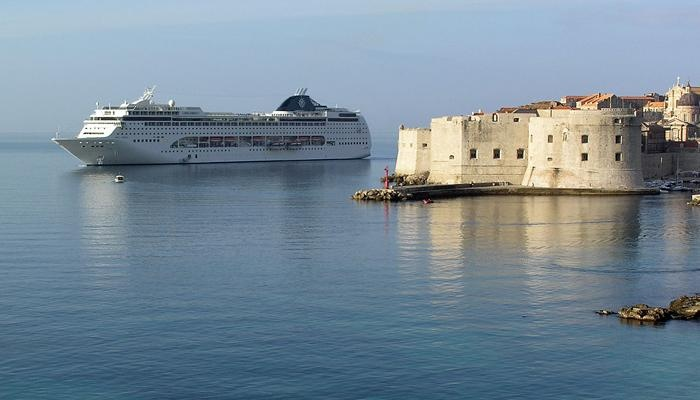otherboat: (112, 173, 126, 185)
youlun: (47, 78, 374, 170)
